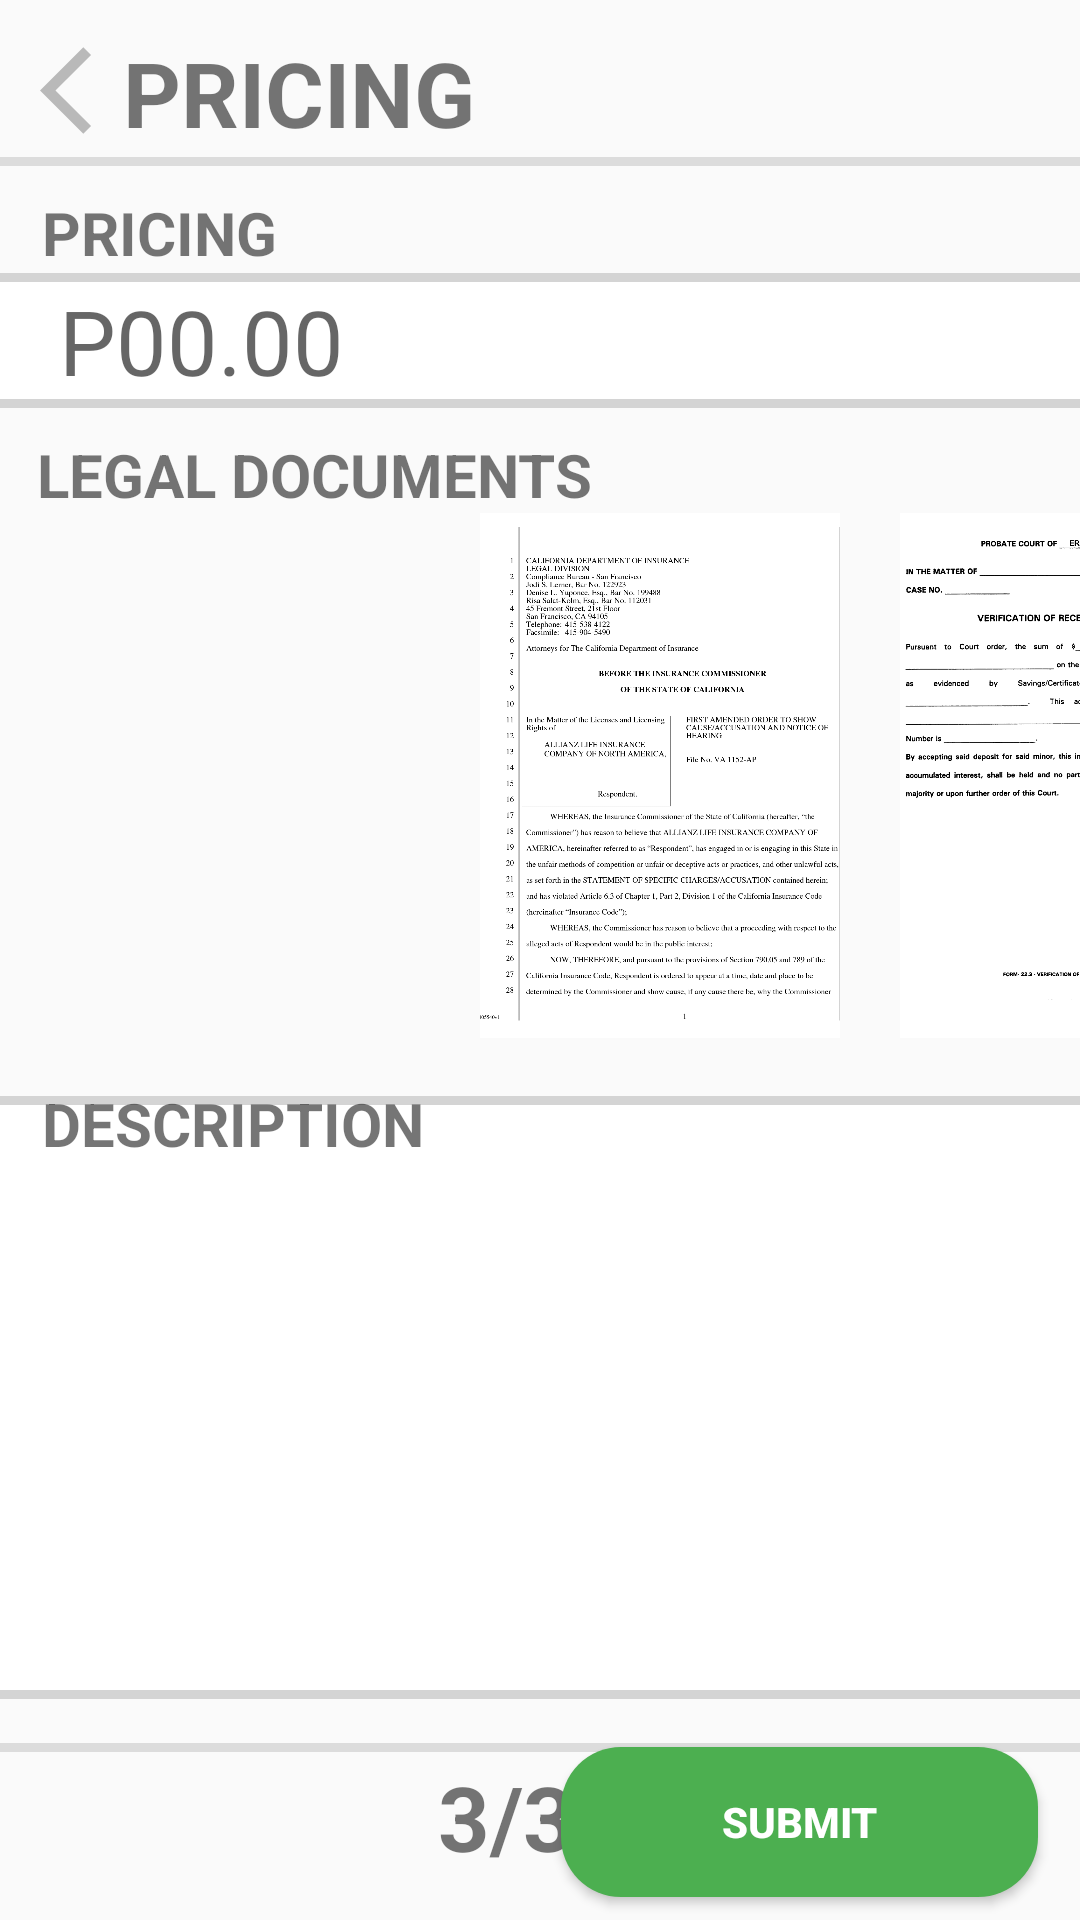

Icon click points for this 1080*1920 phone screenshot, format [x,y]:
arrow back: [65,90]
